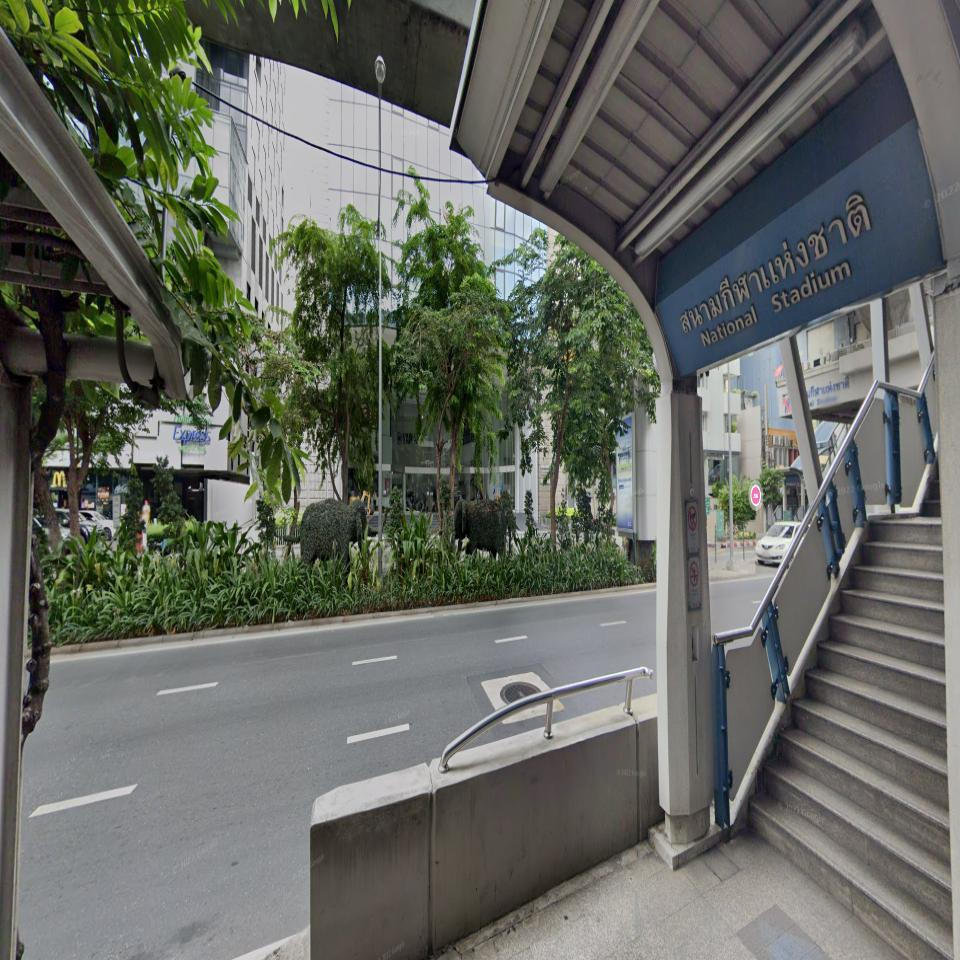signage: (655, 116, 946, 372)
